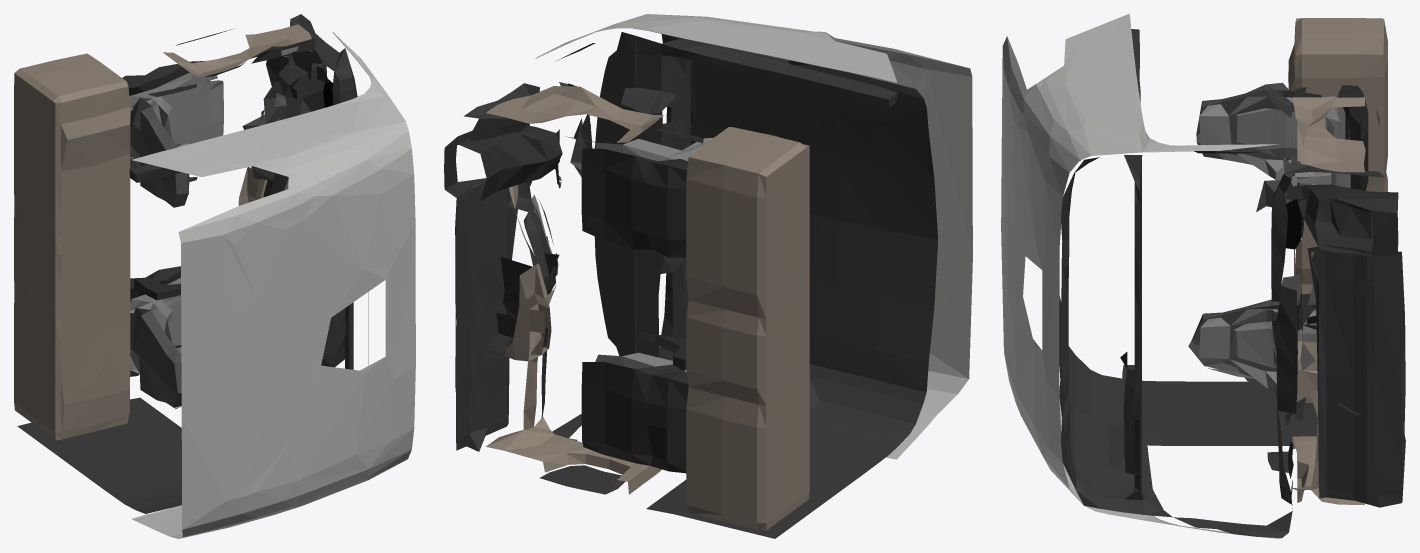
The model's file is fh16_cab_interior.obj.
3 views of the same model, side by side, from view 1: azimuth 30°, elevation 25°; view 2: azimuth 150°, elevation 25°; view 3: azimuth 270°, elevation 25° (orthographic). The views are drawn at different scales.
Parts seen in each view (by area): view 1: fh16_cab_interior; view 2: fh16_cab_interior; view 3: fh16_cab_interior.
Boxes of the visible parts, x1=… form: fh16_cab_interior: x1=14, y1=14, x2=415, y2=538; fh16_cab_interior: x1=444, y1=14, x2=972, y2=538; fh16_cab_interior: x1=1001, y1=14, x2=1405, y2=538.
Size of the model in its own units: 2.31 by 2.58 by 2.4.
